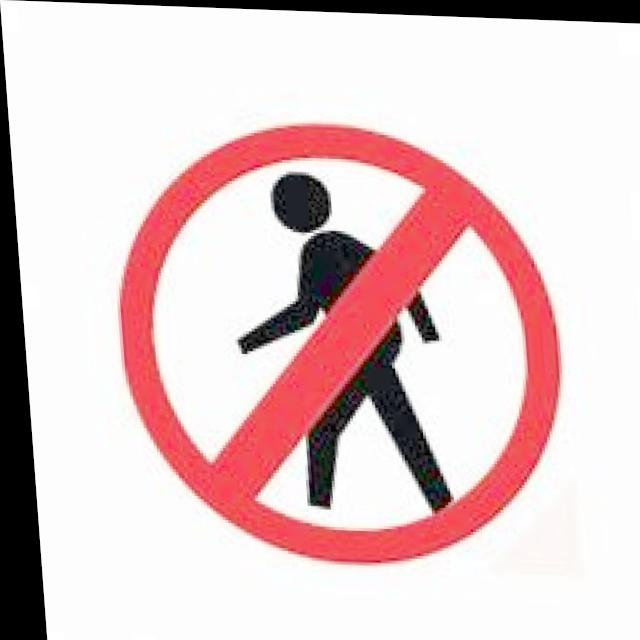PEDESTRIAN_PROHIBITED: (97, 105, 573, 578)
